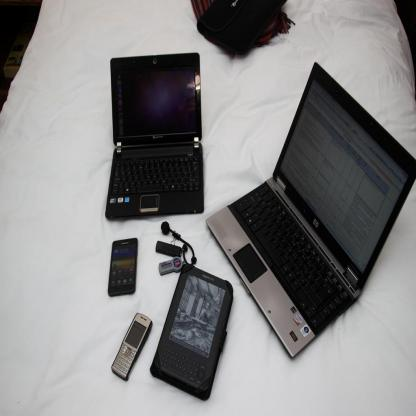board: (209, 61, 407, 357), (104, 54, 205, 217)
